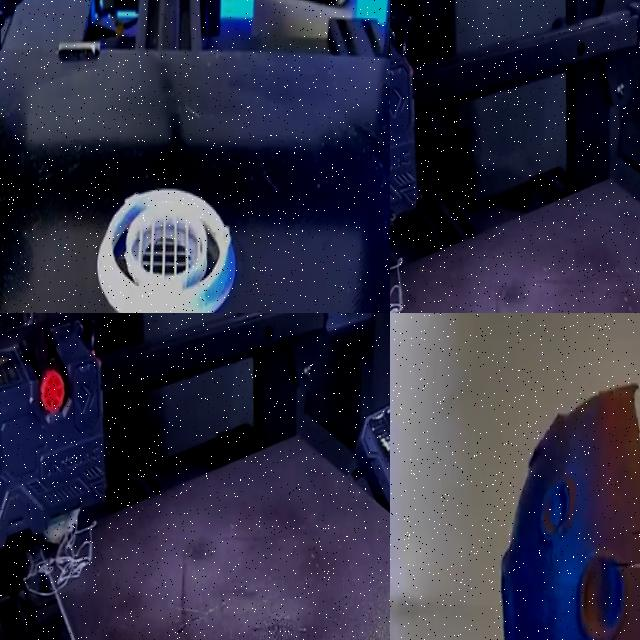spaghetti: (22, 510, 105, 595)
